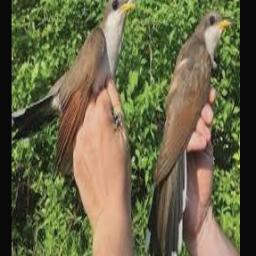Cuckoo: (12, 0, 136, 180), (147, 10, 231, 256)
